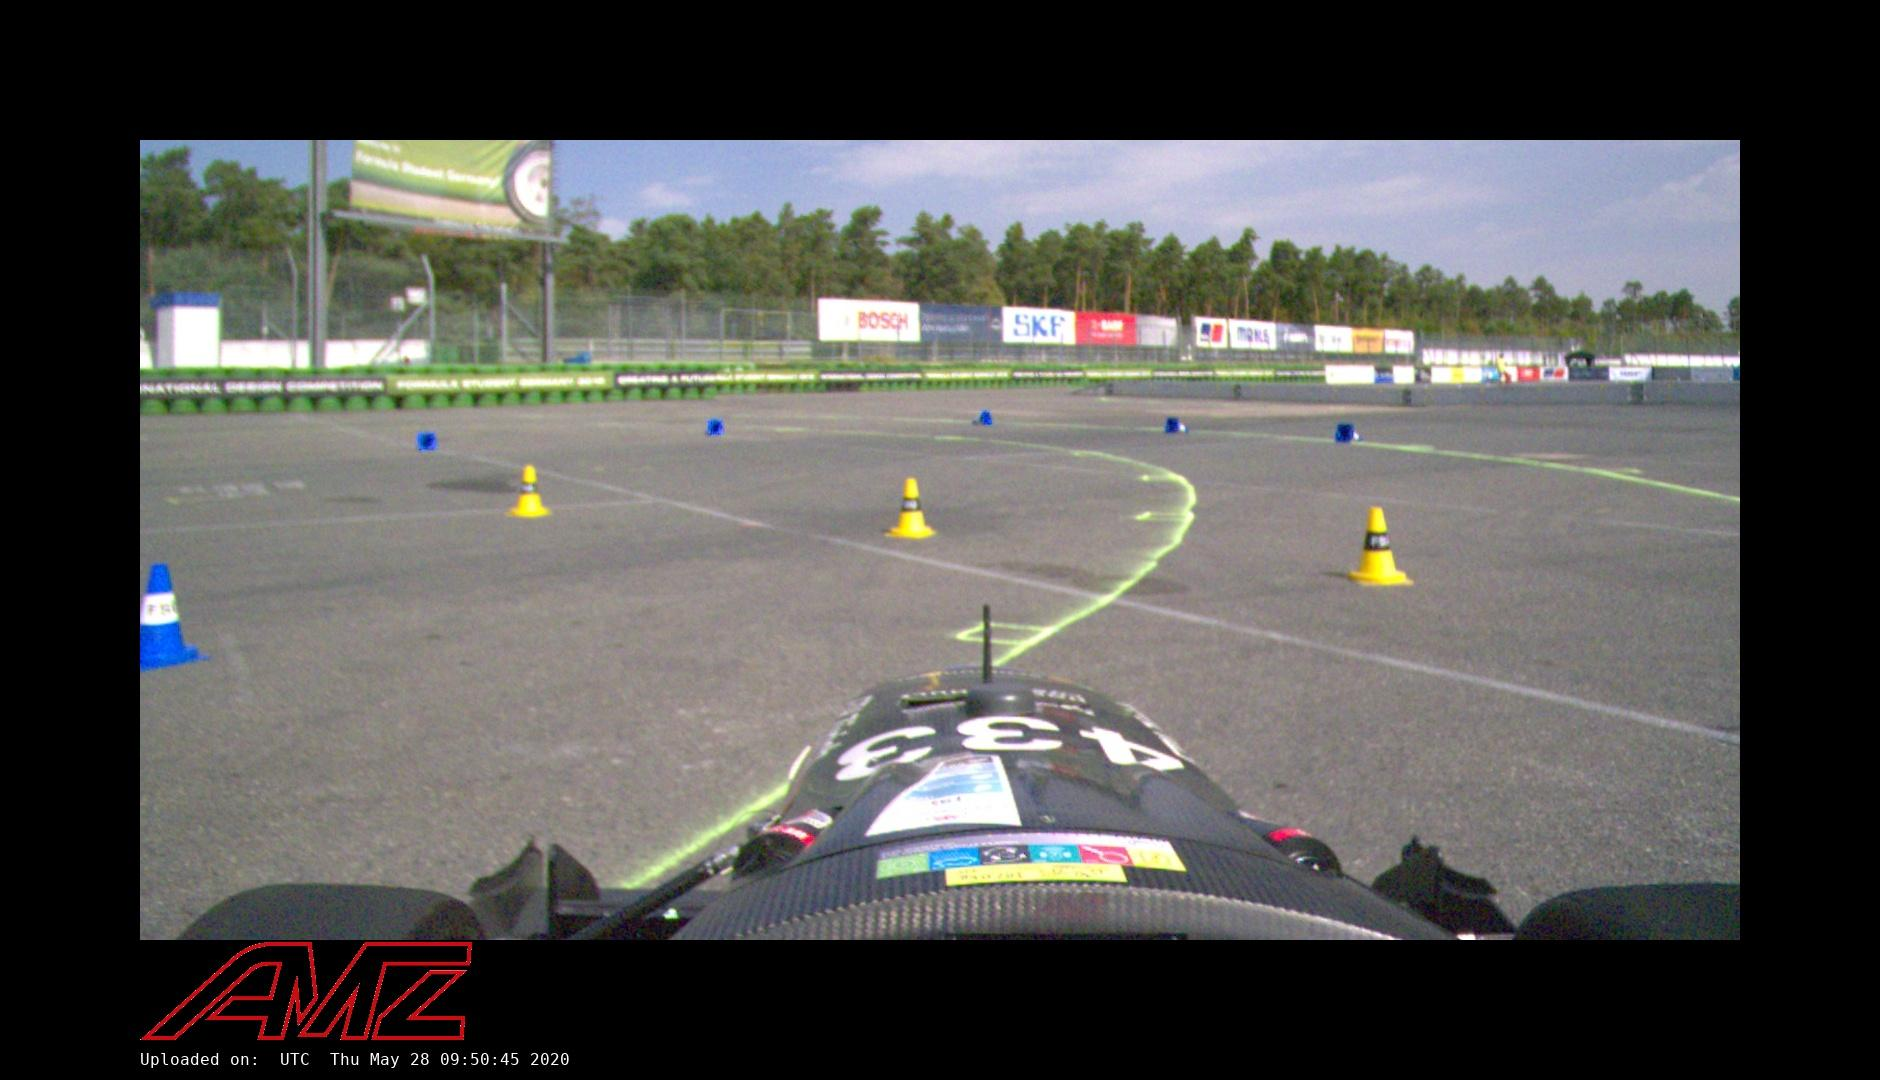blue_cone: (139, 563, 207, 669), (1334, 422, 1364, 442), (417, 430, 440, 451), (1165, 416, 1190, 434), (972, 410, 993, 426), (708, 419, 724, 435)
yellow_cone: (1345, 506, 1413, 587), (884, 477, 937, 537), (504, 464, 551, 519)
